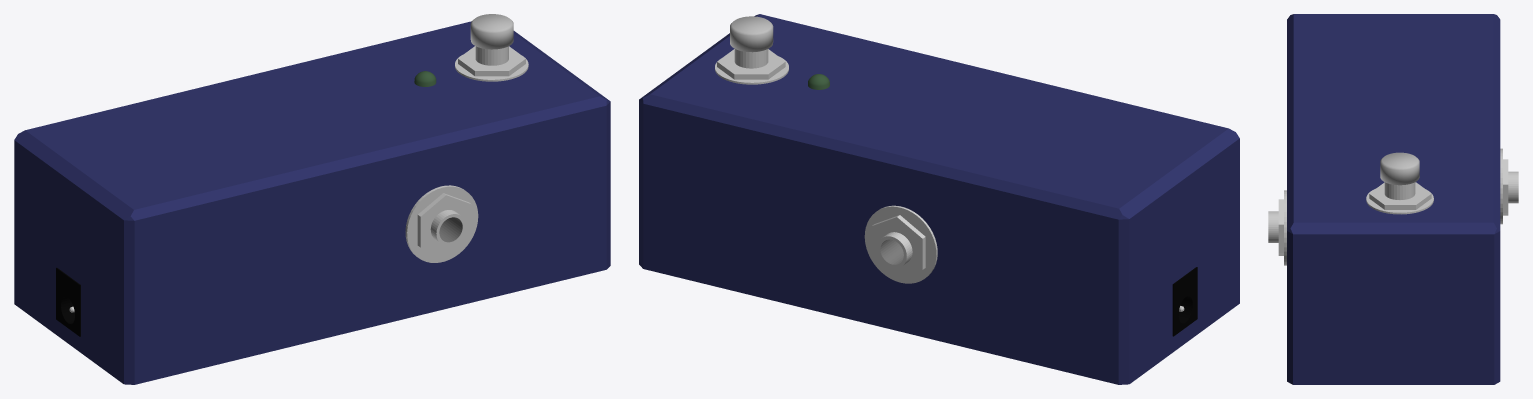
Rendered from pedal1.gltf.
3 views of the same model, side by side, from view 1: azimuth 30°, elevation 25°; view 2: azimuth 150°, elevation 25°; view 3: azimuth 270°, elevation 25° (orthographic). The views are drawn at different scales.
Visible parts, largest first — view 1: Box.001, Base.002, Nut.002, Head.001, Plane.001, Nut.004, Cylinder.001, Outer Jack.002, Inner Jack.002, Base.004; view 2: Box.001, Base.005, Nut.005, Head.001, Plane.001, Nut.004, Cylinder.001, Outer Jack.003, Inner Jack.003, Base.004; view 3: Box.001, Head.001, Nut.004, Cylinder.001, Base.004, Outer Jack.003, Outer Jack.002, Nut.002, Nut.005, Base.005, Base.002.
Boxes of the visible parts, box(x1,y1,x2,y2) form: Box.001: box(14, 21, 610, 384); Base.002: box(405, 185, 478, 262); Nut.002: box(417, 193, 471, 256); Head.001: box(470, 14, 513, 49); Plane.001: box(56, 267, 80, 336); Nut.004: box(458, 46, 525, 76); Cylinder.001: box(475, 46, 508, 65); Outer Jack.002: box(430, 210, 466, 246); Inner Jack.002: box(439, 217, 463, 243); Base.004: box(455, 55, 528, 81); Box.001: box(639, 14, 1239, 384); Base.005: box(864, 205, 937, 283); Nut.005: box(871, 215, 925, 278); Head.001: box(730, 16, 773, 52); Plane.001: box(1172, 267, 1197, 336); Nut.004: box(717, 49, 785, 79); Cylinder.001: box(734, 49, 768, 68); Outer Jack.003: box(876, 232, 912, 268); Inner Jack.003: box(879, 239, 903, 265); Base.004: box(715, 56, 788, 84); Box.001: box(1287, 14, 1500, 384); Head.001: box(1380, 152, 1419, 185); Nut.004: box(1369, 182, 1431, 209); Cylinder.001: box(1384, 182, 1415, 199); Base.004: box(1366, 189, 1433, 214); Outer Jack.003: box(1508, 171, 1518, 203); Outer Jack.002: box(1268, 211, 1278, 242); Nut.002: box(1278, 199, 1283, 255); Nut.005: box(1503, 159, 1508, 215); Base.005: box(1500, 148, 1502, 224); Base.002: box(1284, 190, 1286, 265).
Bounding box in the file's own units: 7.26 × 3.06 × 3.52.
